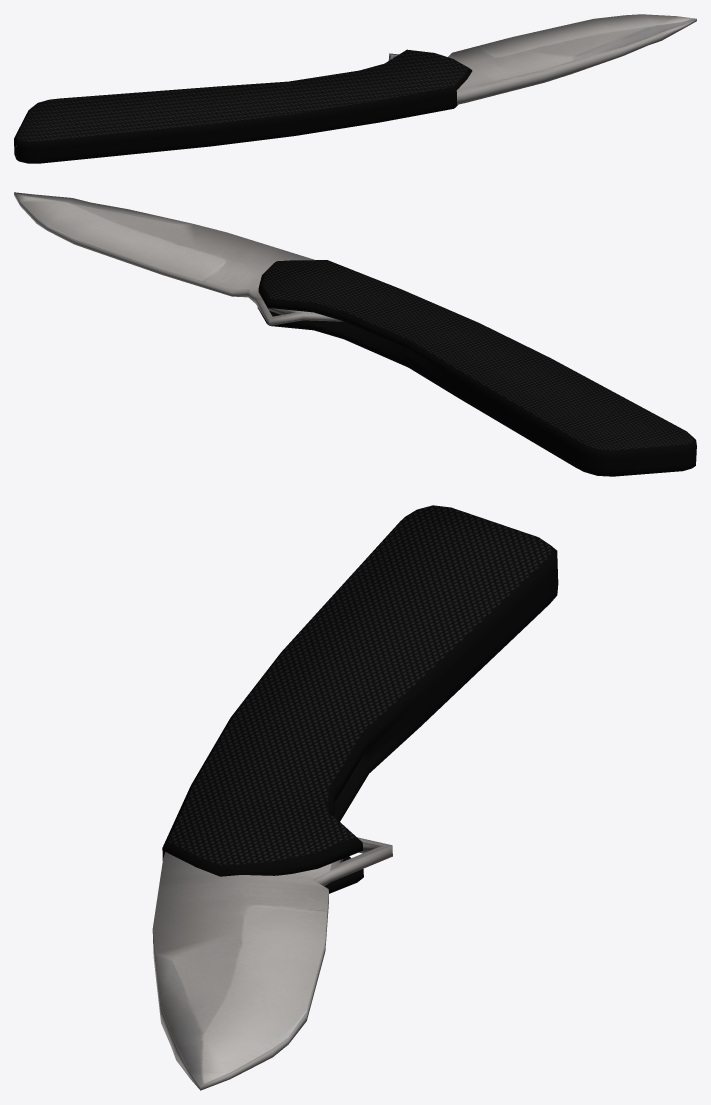
The model's file is Knife.fbx.
The picture shows the model from 3 angles, top to bottom: view 1: azimuth 30°, elevation 25°; view 2: azimuth 150°, elevation 25°; view 3: azimuth 270°, elevation 25°; orthographic projection. The views are drawn at different scales.
Parts seen in each view (by area): view 1: Knife_Handle, Knife_Blade; view 2: Knife_Handle, Knife_Blade; view 3: Knife_Handle, Knife_Blade.
Part boxes in pixels (<box>): Knife_Handle: <box>14,49,472,163</box>; Knife_Blade: <box>388,14,696,104</box>; Knife_Handle: <box>257,260,696,476</box>; Knife_Blade: <box>14,192,343,325</box>; Knife_Handle: <box>162,505,558,893</box>; Knife_Blade: <box>152,837,392,1090</box>.
Size of the model in its own units: 451 by 26.1 by 127.
